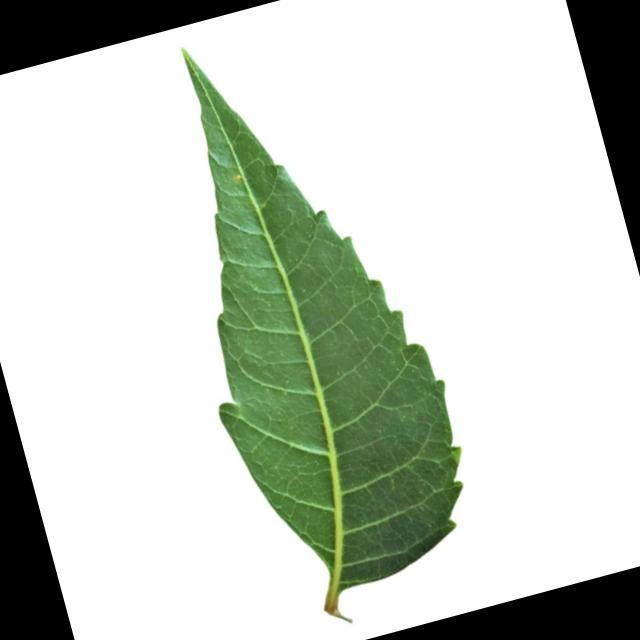Medicinal-Neem: (122, 2, 494, 628)
